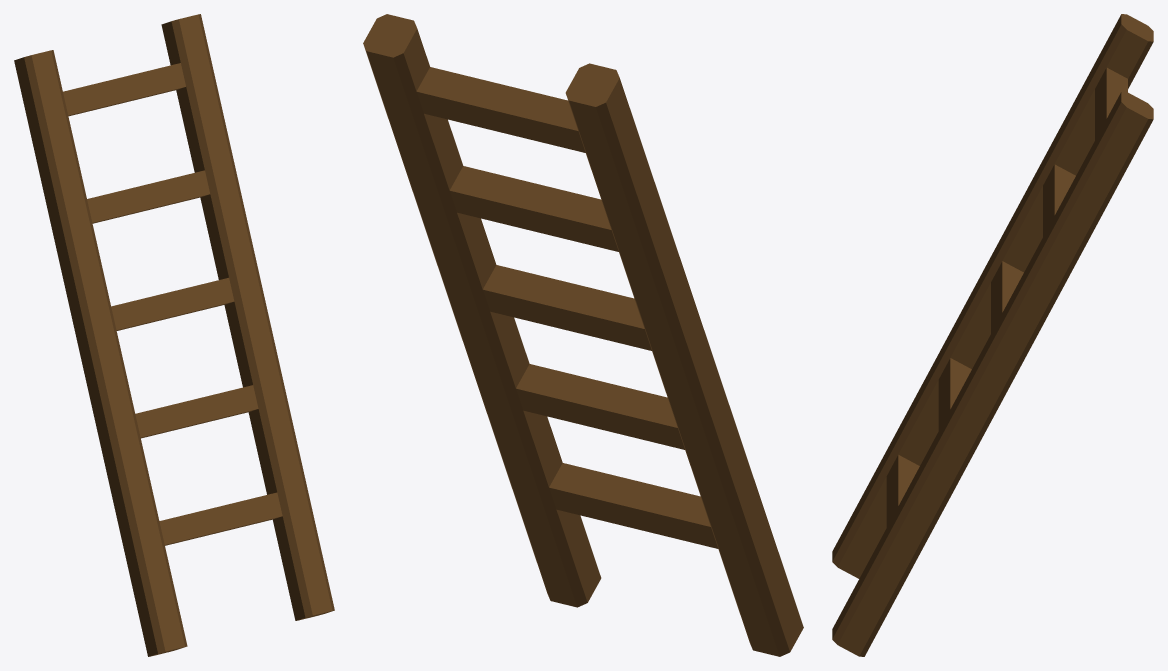
Rendered from Ladder1.obj.
3 renders of one model, left to right at view 1: azimuth 30°, elevation 25°; view 2: azimuth 150°, elevation 25°; view 3: azimuth 270°, elevation 25°, orthographic. The views are drawn at different scales.
Size of the model in its own units: 0.36 by 1 by 0.5254.
